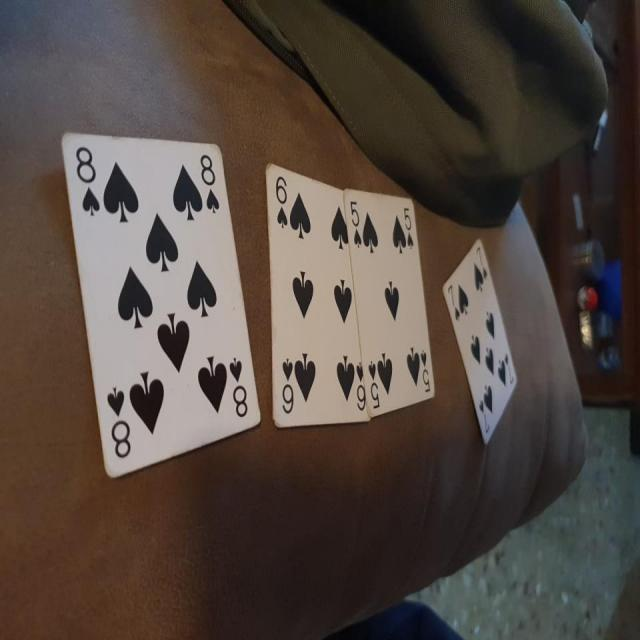5 Spades: (340, 184, 442, 421)
6 Spades: (259, 165, 377, 446)
7 Spades: (438, 234, 526, 463)
8 Spades: (45, 110, 263, 495)
